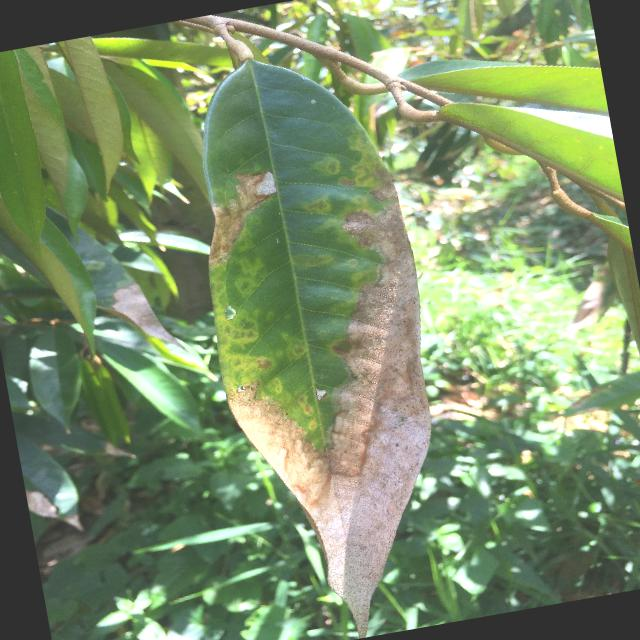Leaf Blight: (158, 27, 481, 639)
